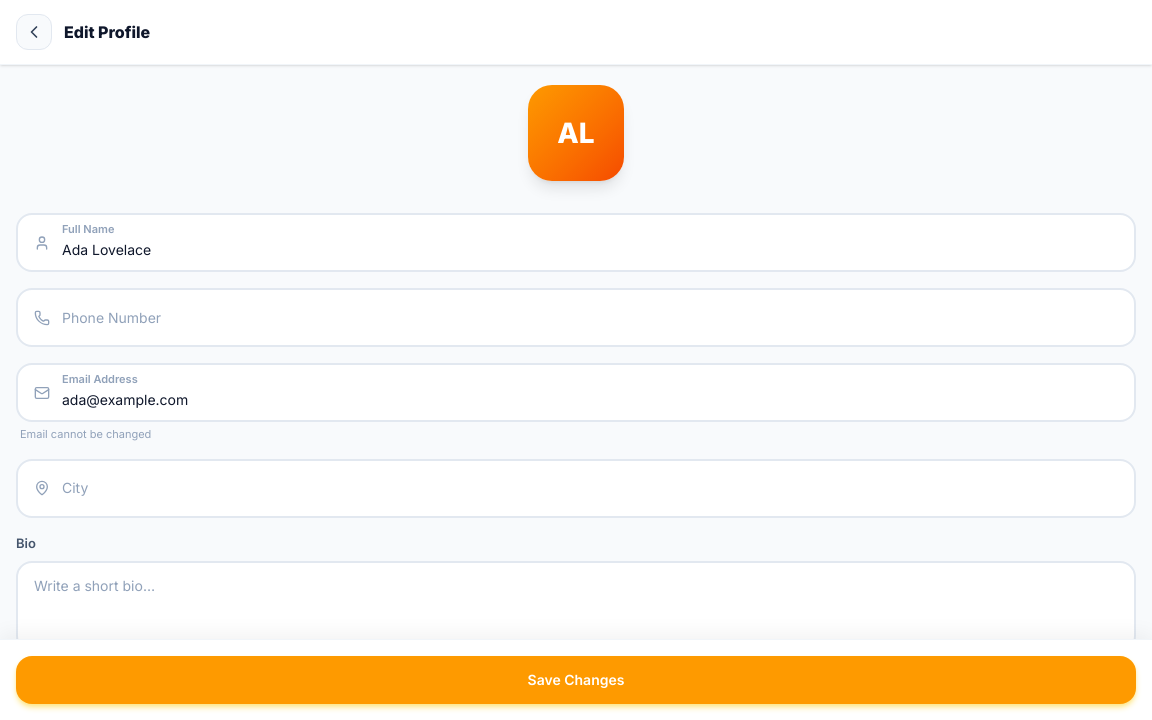
Test case: EditProfilePage — a late refetch does not overwrite edits › follows the server again after a successful save
Replace the text in the field showing "Ada Lovelace" with "Grace Hopper" at point(576, 242), box [18,215,1134,270]
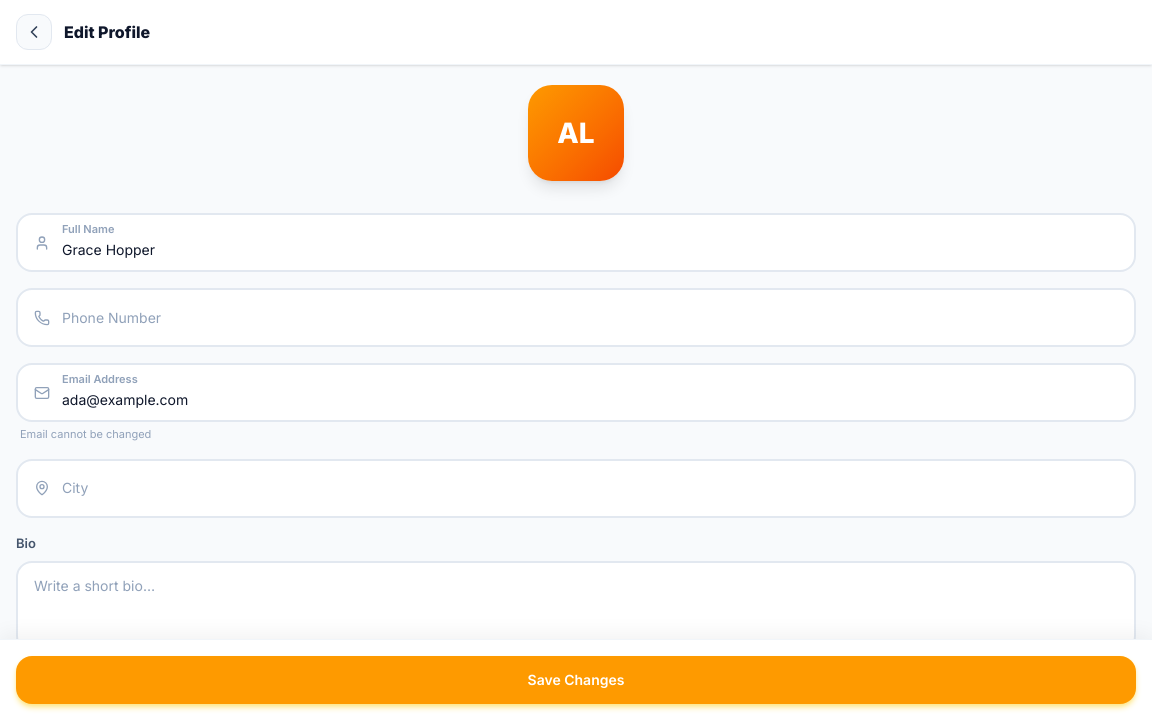
Click the button "Save Changes".
click(576, 680)  # box [16,656,1136,704]
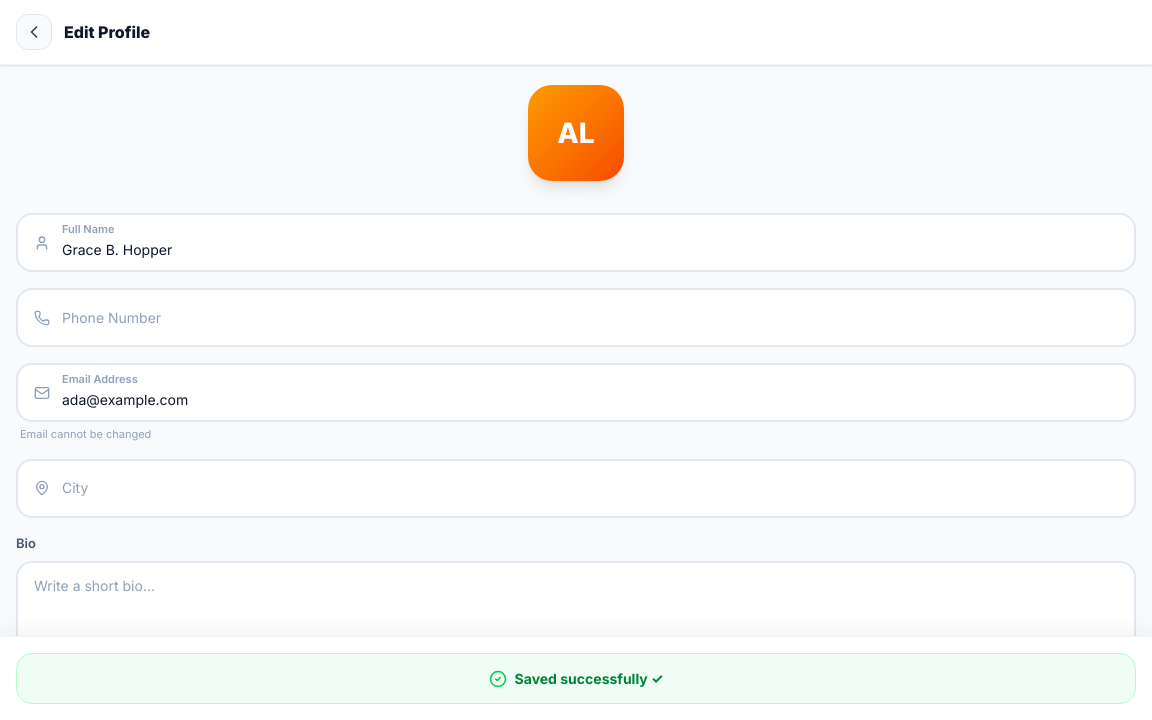
Expected: the field showing "Grace B. Hopper" is shown, [18,215,1134,270]
